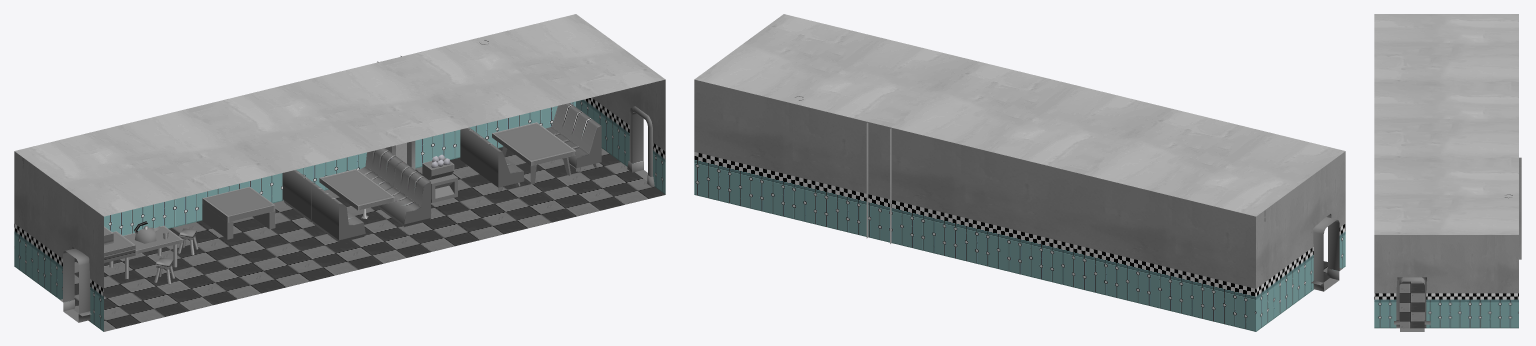
File: MHS_Cafeteria_L1_R3_optimized.fbx
3 renders of one model, left to right at view 1: azimuth 30°, elevation 25°; view 2: azimuth 150°, elevation 25°; view 3: azimuth 270°, elevation 25°, orthographic. The views are drawn at different scales.
Visible parts, largest first — view 1: lightmap1, lightmap0, lightmap-1; view 2: lightmap1, lightmap-1, lightmap0; view 3: lightmap1, lightmap0, lightmap-1.
Part boxes in pixels (left/top/right/bottom): lightmap1: left=14, top=14, right=665, bottom=331; lightmap0: left=22, top=40, right=601, bottom=284; lightmap-1: left=63, top=112, right=645, bottom=322; lightmap1: left=694, top=14, right=1345, bottom=331; lightmap-1: left=1313, top=217, right=1339, bottom=291; lightmap0: left=795, top=96, right=1265, bottom=243; lightmap1: left=1374, top=14, right=1518, bottom=331; lightmap0: left=1505, top=157, right=1521, bottom=259; lightmap-1: left=1399, top=277, right=1424, bottom=331.
Bounding box in the file's own units: 30.91 × 5.92 × 8.41.
